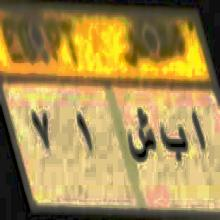1: (76, 103, 95, 165)
7: (31, 106, 52, 160)
alif: (190, 105, 206, 160)
baa: (161, 120, 187, 172)
sheen: (126, 104, 156, 171)
